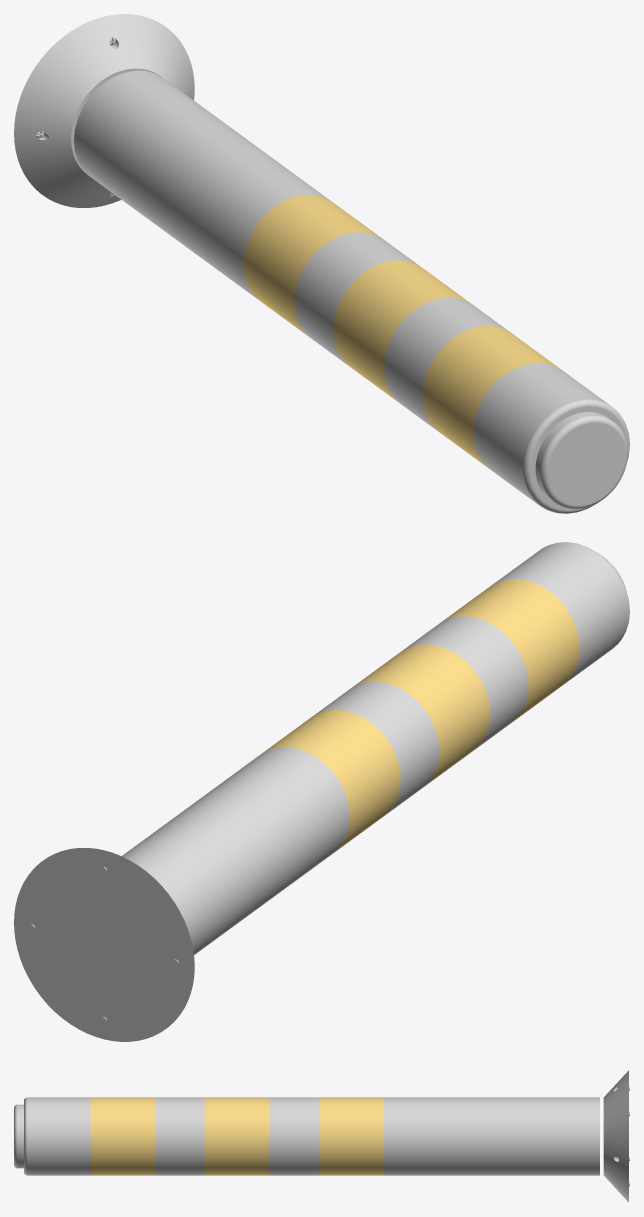
The model's file is 防撞柱.gltf.
3 views of the same model, one above another, from view 1: azimuth 30°, elevation 25°; view 2: azimuth 150°, elevation 25°; view 3: azimuth 270°, elevation 25° (orthographic). The views are drawn at different scales.
Parts seen in each view (by area): view 1: Default, Default_1; view 2: Default, Default_1; view 3: Default, Default_1.
Boxes of the visible parts, x1,y1,x2,y2 form: Default: [14, 14, 629, 513]; Default_1: [243, 194, 562, 467]; Default: [14, 542, 629, 1041]; Default_1: [260, 578, 579, 852]; Default: [14, 1070, 629, 1202]; Default_1: [90, 1097, 383, 1175].
Bounding box in the file's own units: 0.2021 × 0.2021 × 0.9355.
